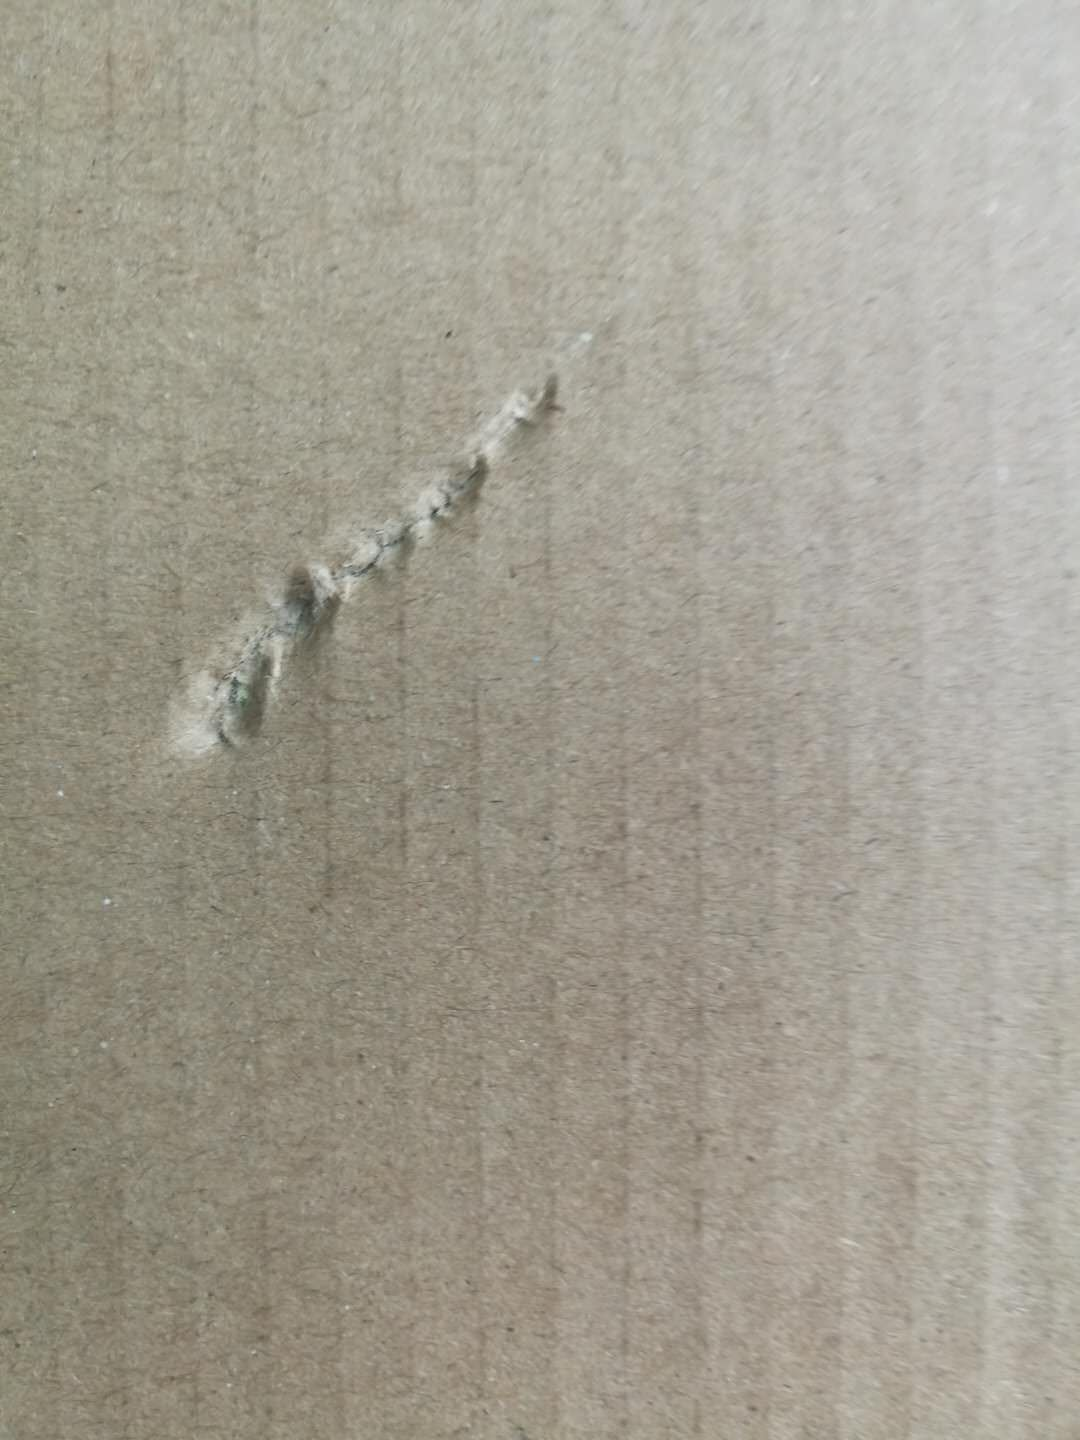defect: (126, 288, 675, 782)
